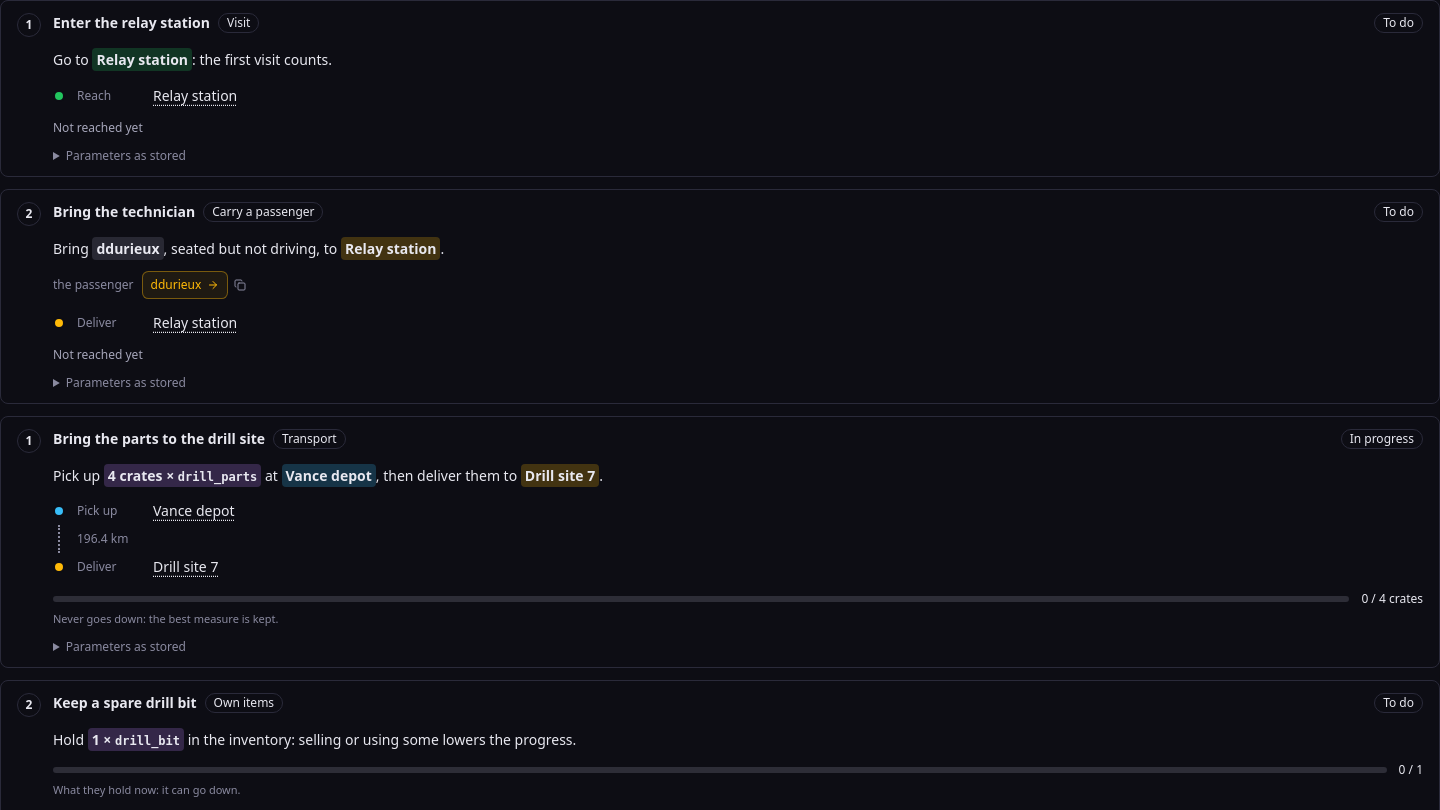
it: MissionObjectives (ADR 0026) › links a passenger to their sheet, and reads an owned quantity as one that can go down
Click the button "ddurieux": (185, 284) top-left (142, 270), bottom-right (228, 298)
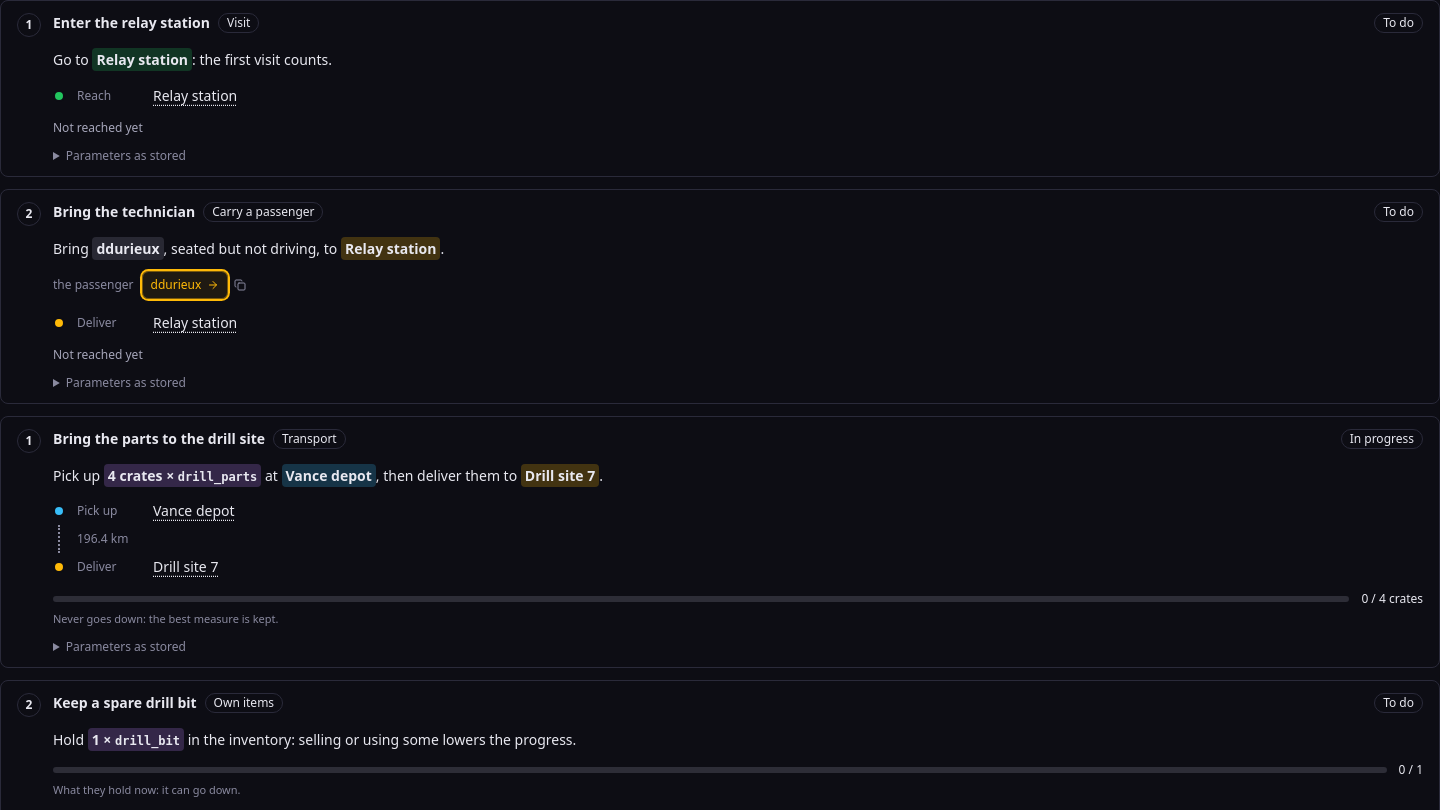
// The relay station is in orbit: it stands on no body.
Click the button "Relay station" below "Go to": (195, 96) top-left (153, 86), bottom-right (237, 106)
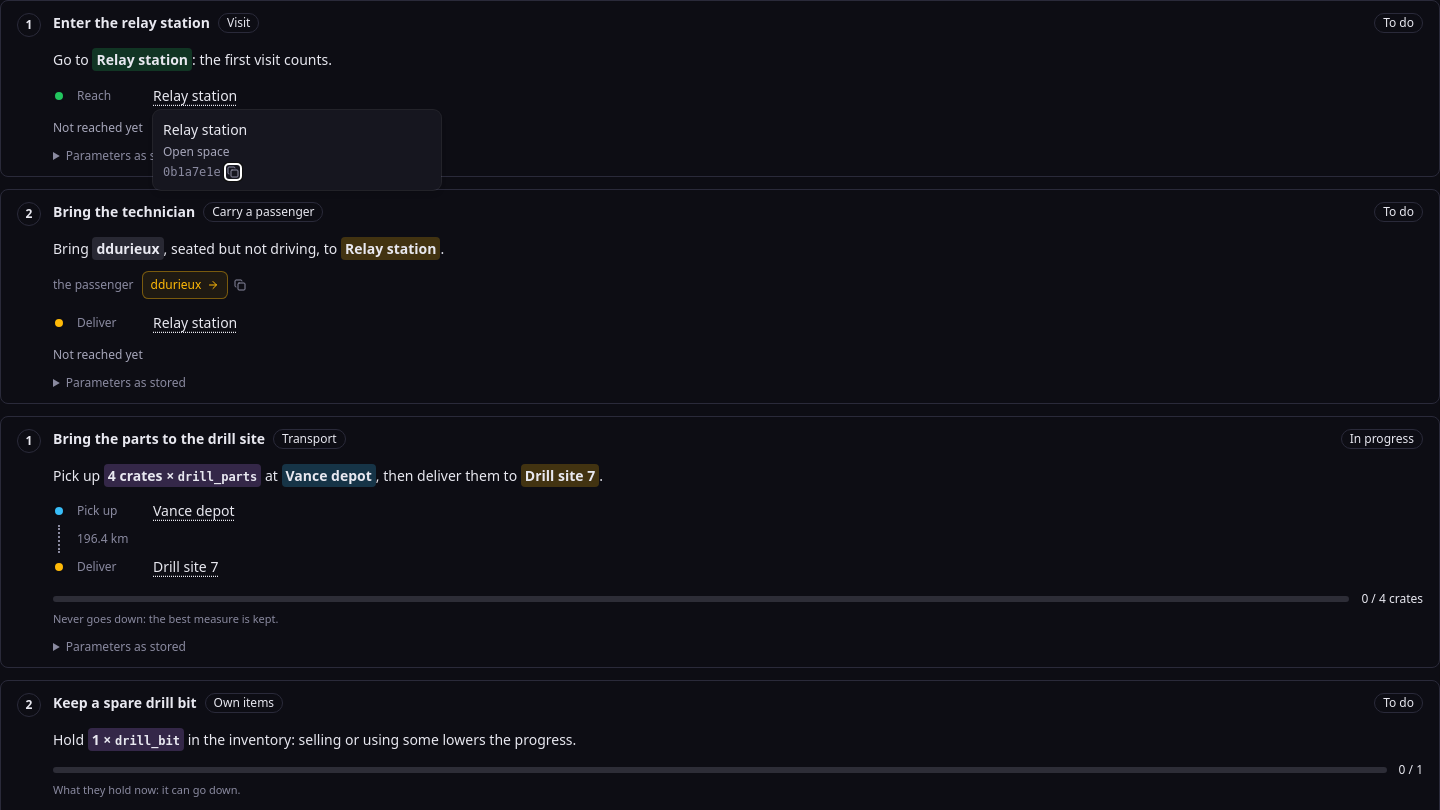
Expected: the text "What they hold now: it can go down." is shown, top-left (53, 782), bottom-right (240, 797)
Expected: the text "Open space" is shown, top-left (163, 143), bottom-right (230, 160)
